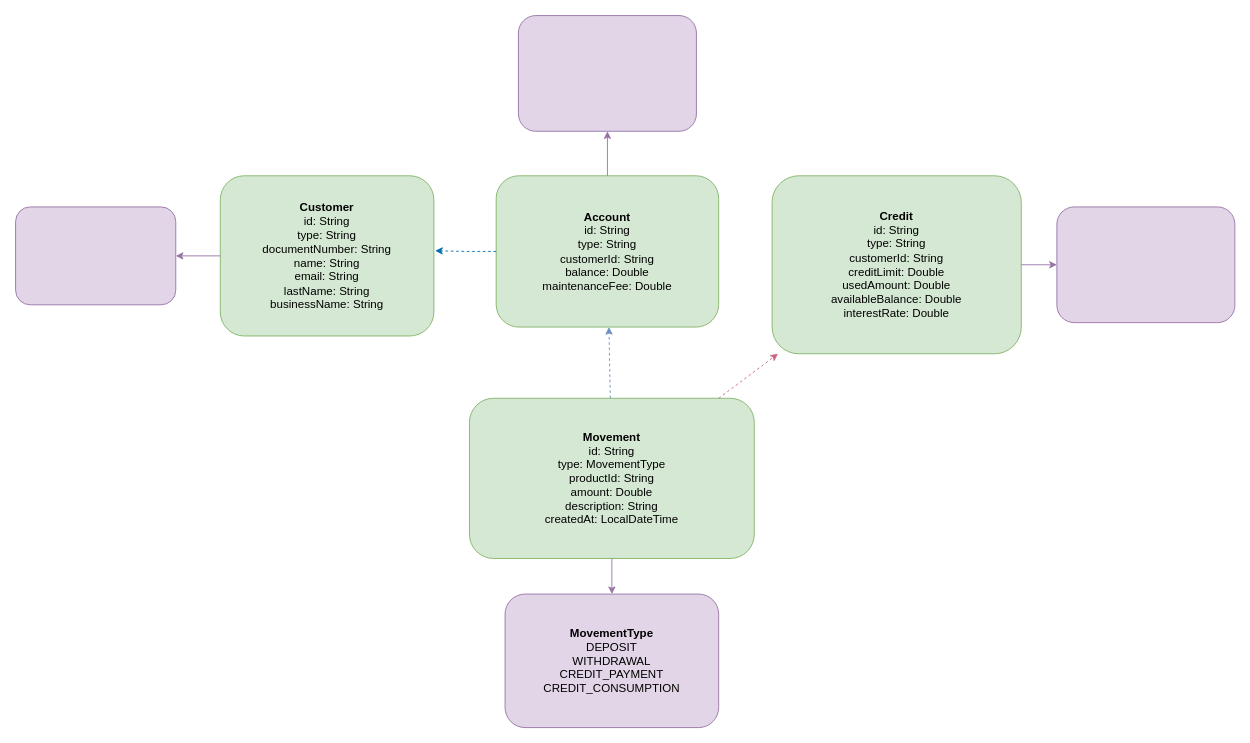
Some shapes in this 1250 by 743 pixel diagram are drawn without their labels. Each missing label, with the centre of its shape:
"AccountType SAVINGS CHECKING FIXED_TERM" belongs at point (607, 73).
"CreditType PERSONAL BUSINESS CREDIT_CARD" belongs at point (1145, 264).
"CustomerType PERSONAL BUSINESS" belongs at point (95, 255).
